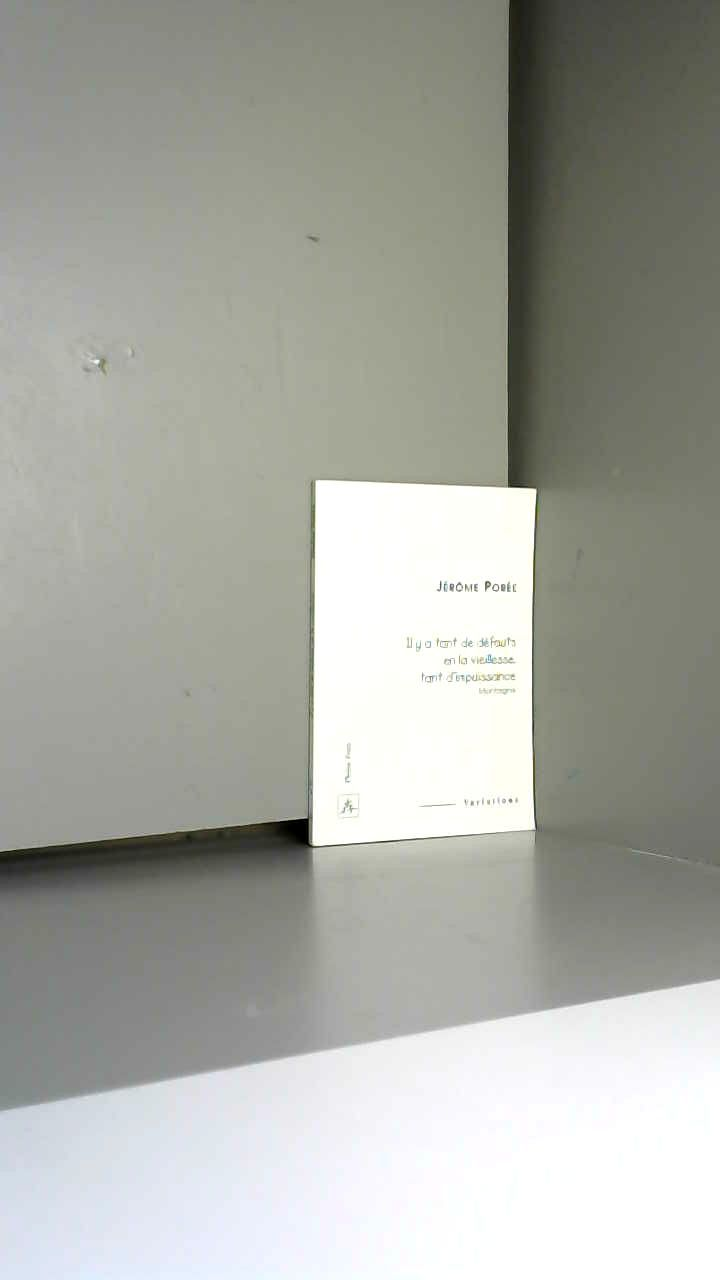book: (290, 0, 720, 928)
